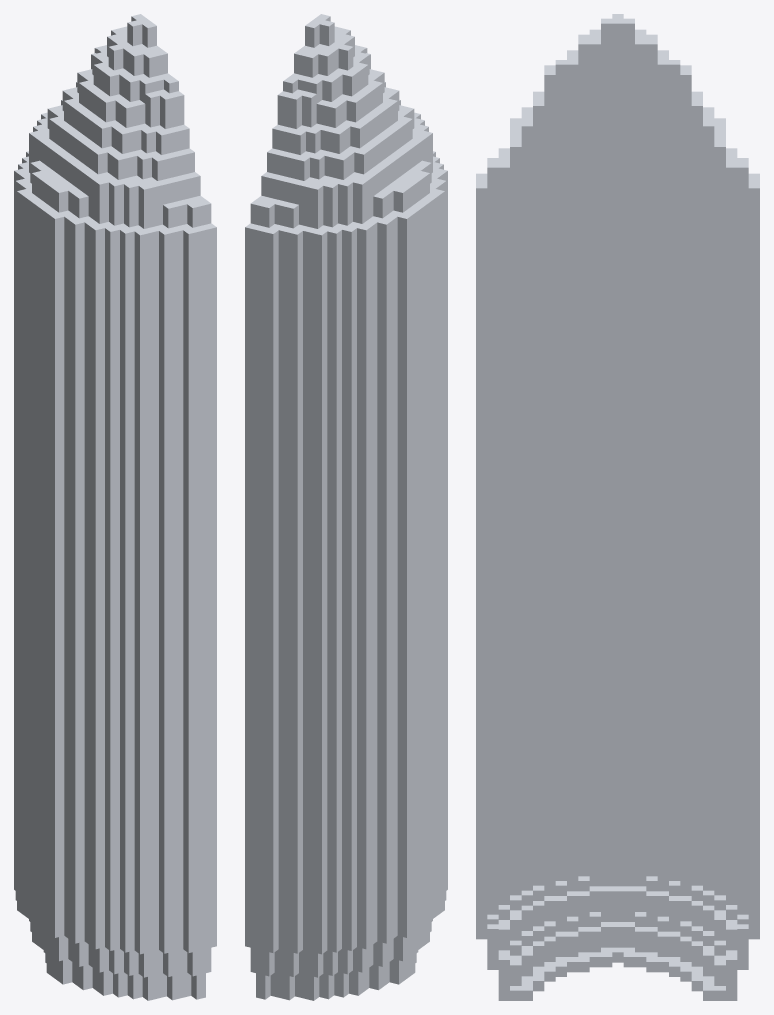
Rendered from Sun_V_fairing_open.glb.
The picture shows the model from 3 angles, left to right: view 1: azimuth 30°, elevation 25°; view 2: azimuth 150°, elevation 25°; view 3: azimuth 270°, elevation 25°; orthographic projection. The views are drawn at different scales.
Parts seen in each view (by area): view 1: ObjObject.033; view 2: ObjObject.033; view 3: ObjObject.033.
Boxes of the visible parts, x1,y1,x2,y2 form: ObjObject.033: (14, 14, 216, 1000); ObjObject.033: (245, 14, 447, 1000); ObjObject.033: (476, 14, 759, 1000).
Size of the model in its own units: 1.2 by 9.5 by 2.5.
1 material, 1 textured.
